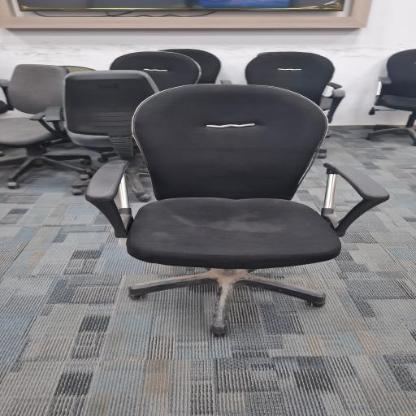chair: (79, 79, 398, 338)
